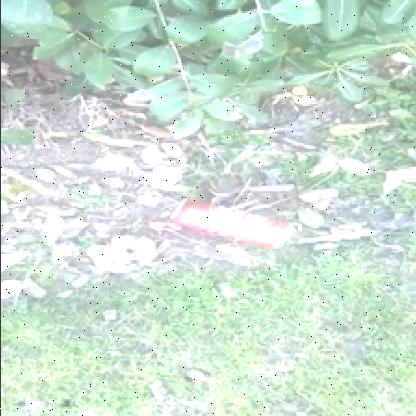Can: (166, 183, 297, 256)
